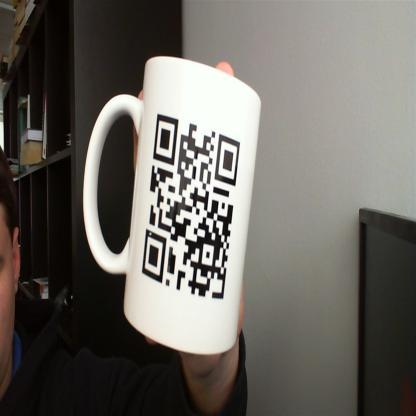qr_code: (142, 113, 241, 300)
